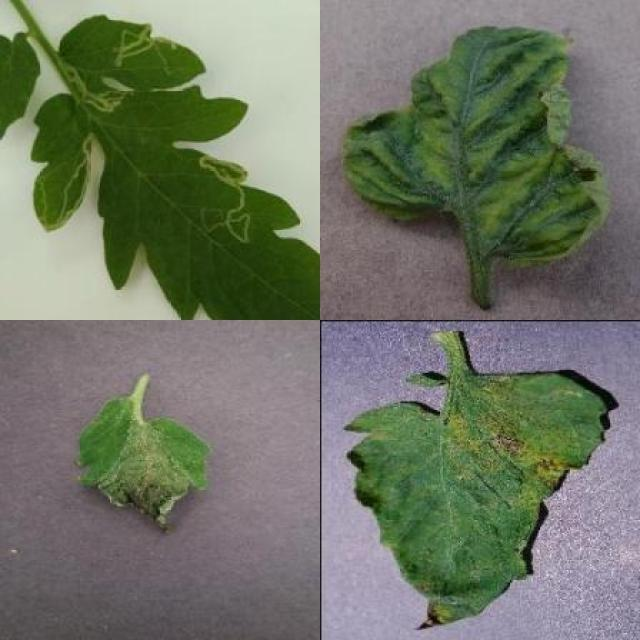Late Blight: (75, 396, 212, 536)
Leaf Miner: (30, 11, 320, 320)
Septoria: (342, 372, 609, 632)
Yellow Leaf Curl Virus: (342, 23, 612, 266)
